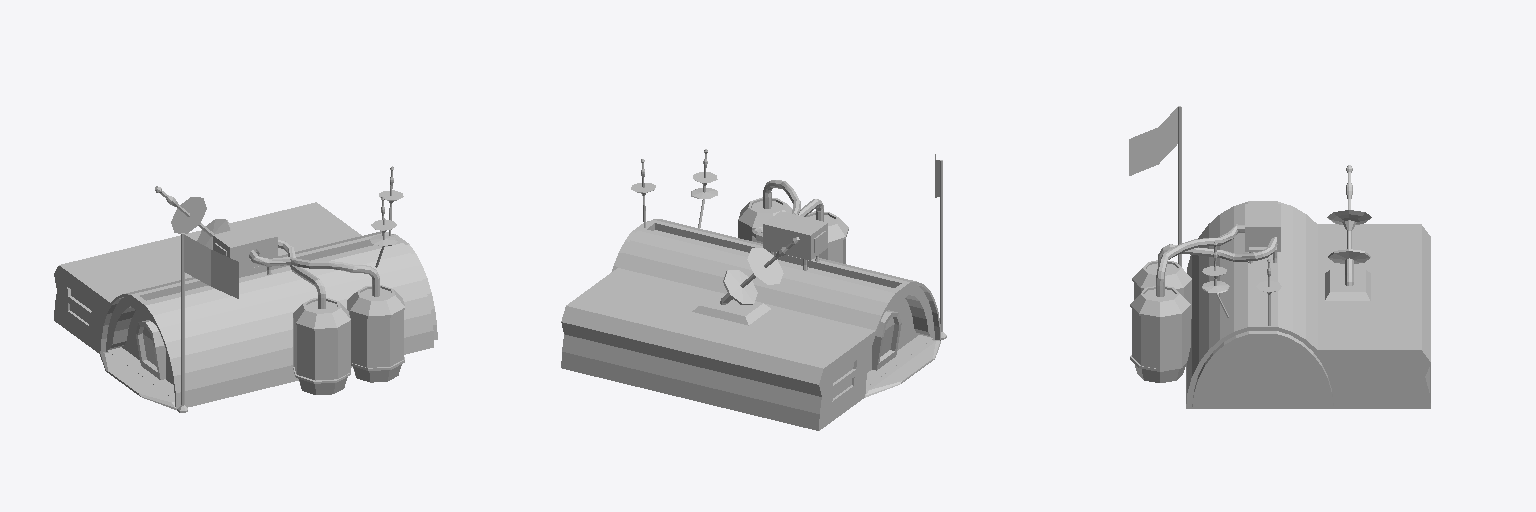
File: Astra_Settelment_Mesh.obj
3 renders of one model, left to right at view 1: azimuth 30°, elevation 25°; view 2: azimuth 150°, elevation 25°; view 3: azimuth 270°, elevation 25°, orthographic.
Parts seen in each view (by area): view 1: StarForgerOutpost, PowerGens, Flag, Door; view 2: StarForgerOutpost, PowerGens, Door, Flag; view 3: StarForgerOutpost, PowerGens, Flag.
Boxes of the visible parts, x1,y1,x2,y2 form: StarForgerOutpost: [54, 166, 437, 409]; PowerGens: [249, 240, 404, 394]; Flag: [177, 233, 238, 412]; Door: [136, 320, 165, 379]; StarForgerOutpost: [561, 149, 940, 430]; PowerGens: [738, 180, 848, 263]; Door: [872, 310, 901, 370]; Flag: [935, 154, 946, 339]; StarForgerOutpost: [1186, 165, 1430, 408]; PowerGens: [1130, 224, 1277, 382]; Flag: [1129, 106, 1181, 266].
Size of the model in its own units: 31.09 by 18.76 by 28.82.